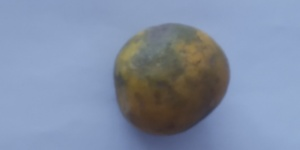BAD: (113, 22, 231, 137)
